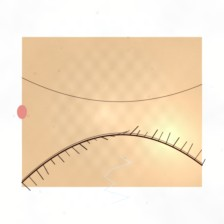foreign_body_visible: (116, 103, 147, 128)
